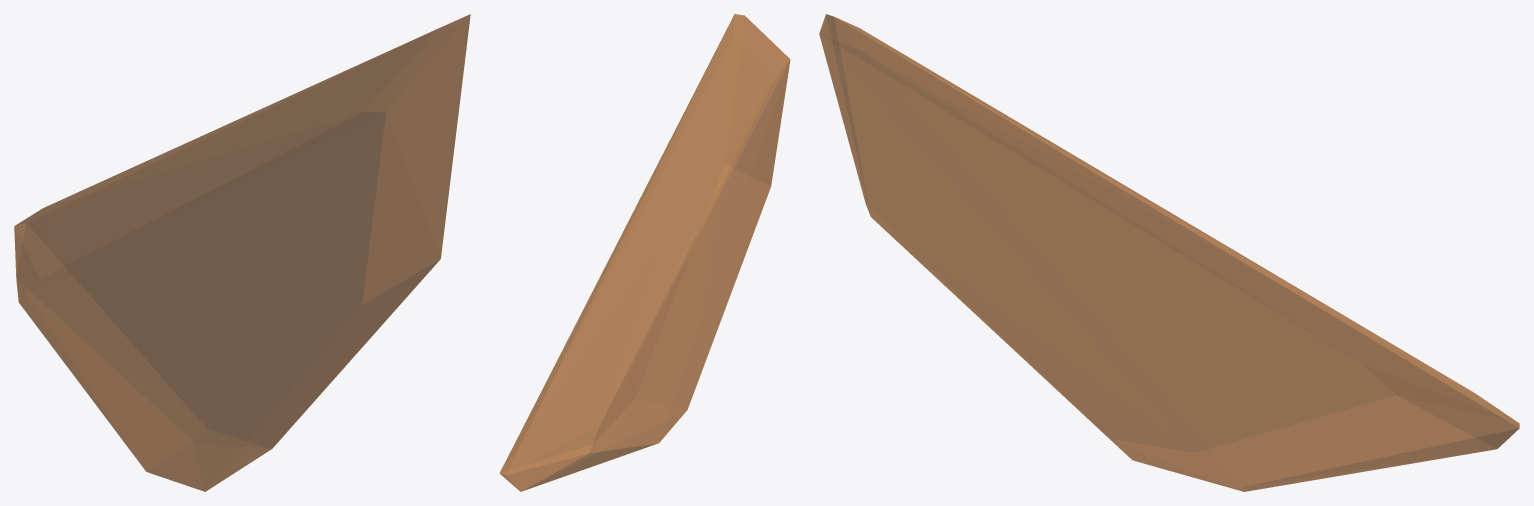
3 renders of one model, left to right at view 1: azimuth 30°, elevation 25°; view 2: azimuth 150°, elevation 25°; view 3: azimuth 270°, elevation 25°, orthographic. The views are drawn at different scales.
Parts seen in each view (by area): view 1: Shape_IndexedFaceSet.023_Shape_IndexedFaceSet.17999; view 2: Shape_IndexedFaceSet.023_Shape_IndexedFaceSet.17999; view 3: Shape_IndexedFaceSet.023_Shape_IndexedFaceSet.17999.
Part boxes in pixels (x1,y1,x2,y2): Shape_IndexedFaceSet.023_Shape_IndexedFaceSet.17999: (14,14,470,491); Shape_IndexedFaceSet.023_Shape_IndexedFaceSet.17999: (499,14,790,491); Shape_IndexedFaceSet.023_Shape_IndexedFaceSet.17999: (819,14,1519,491).
Bounding box in the file's own units: 0.0576 × 0.36 × 0.4758.
